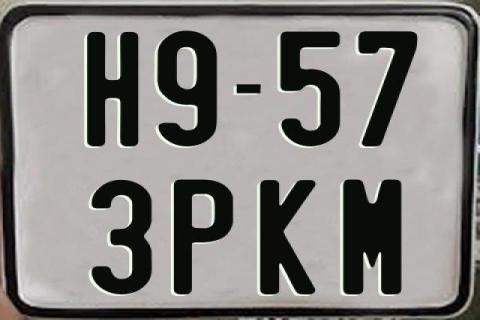0: (92, 177, 158, 293), (155, 29, 217, 149), (279, 30, 340, 150), (358, 29, 417, 149)
H: (85, 32, 140, 149)
K: (260, 178, 317, 294)
M: (343, 177, 401, 296)
P: (172, 177, 233, 297)
